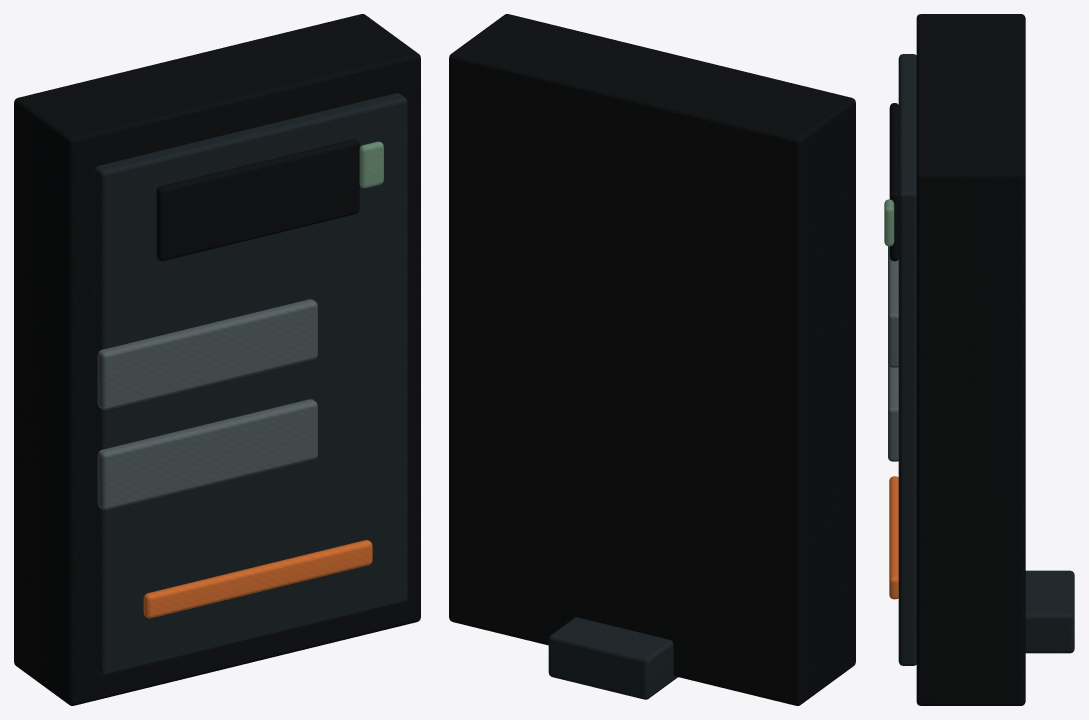
Rendered from WallPatchPanel.glb.
The picture shows the model from 3 angles, left to right: view 1: azimuth 30°, elevation 25°; view 2: azimuth 150°, elevation 25°; view 3: azimuth 270°, elevation 25°; orthographic projection. The views are drawn at different scales.
Visible parts, largest first — view 1: WallPatchPanel_Mesh; view 2: WallPatchPanel_Mesh; view 3: WallPatchPanel_Mesh.
Boxes of the visible parts, left/top/right/bottom form: WallPatchPanel_Mesh: left=14, top=14, right=420, bottom=705; WallPatchPanel_Mesh: left=449, top=14, right=855, bottom=705; WallPatchPanel_Mesh: left=884, top=14, right=1074, bottom=705.
Bounding box in the file's own units: 0.7 × 1.09 × 0.349.
5 materials, 5 textured.
